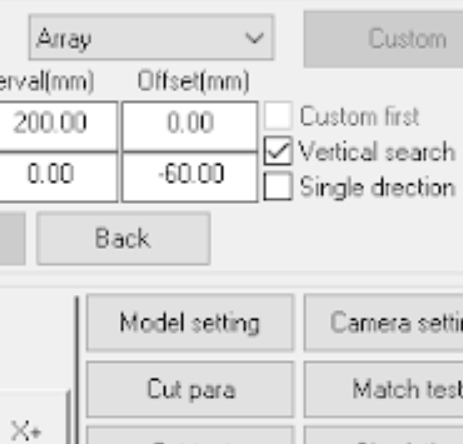timer: (116, 59, 261, 202)
